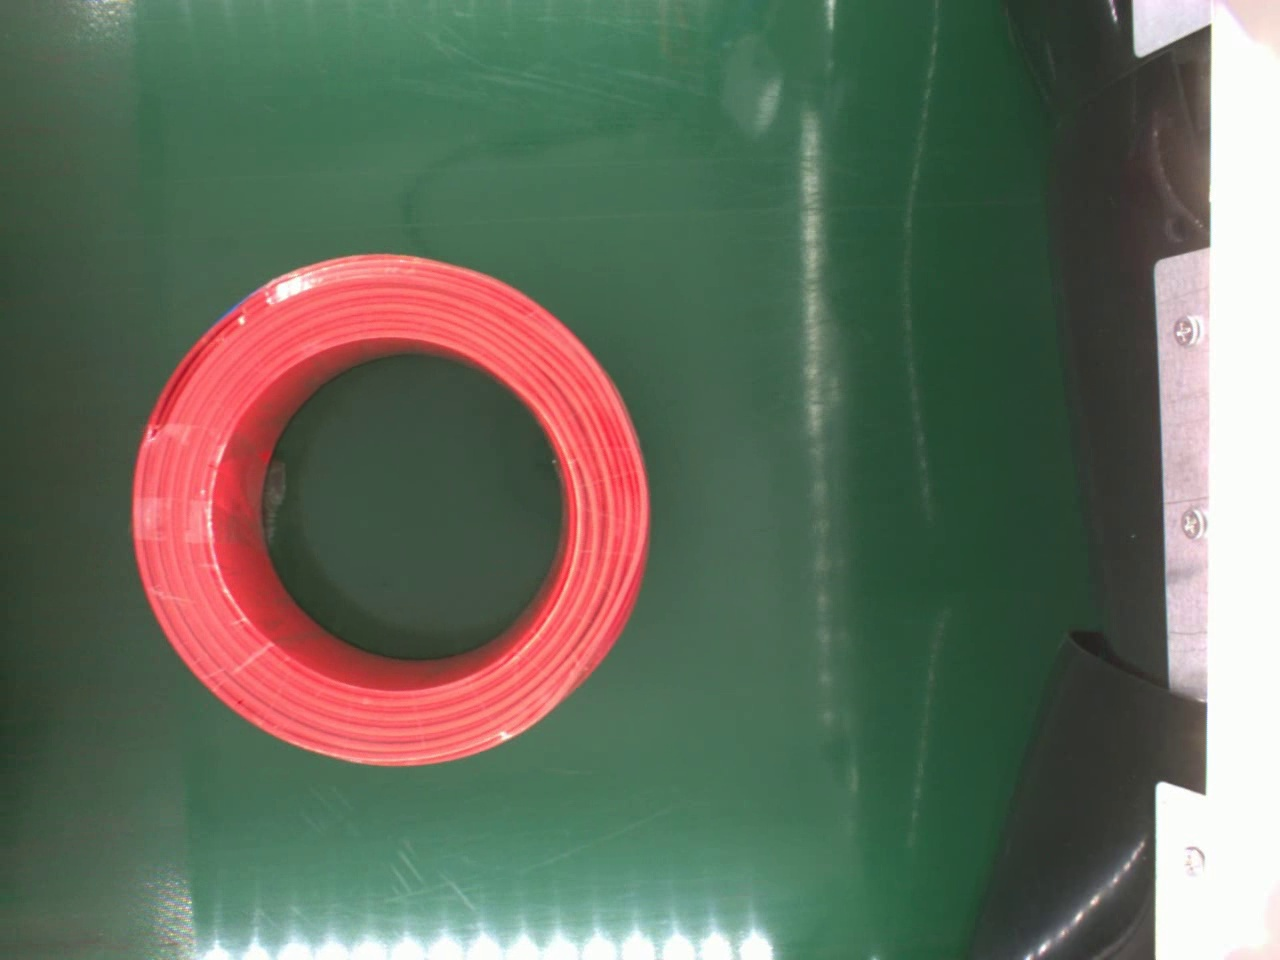red: (125, 248, 659, 774)
